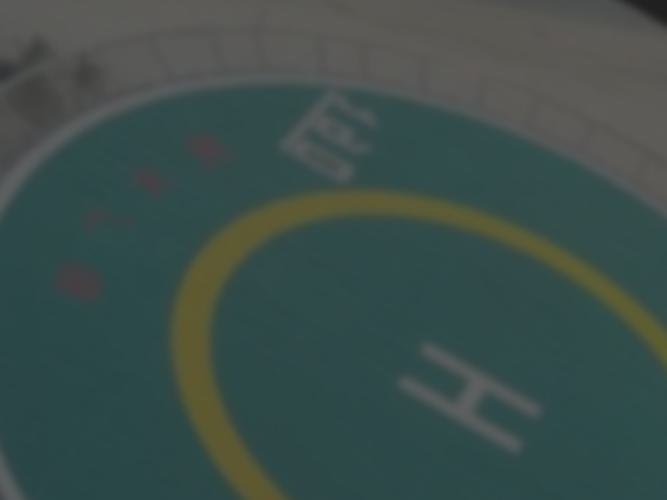Apron: (160, 185, 667, 497)
